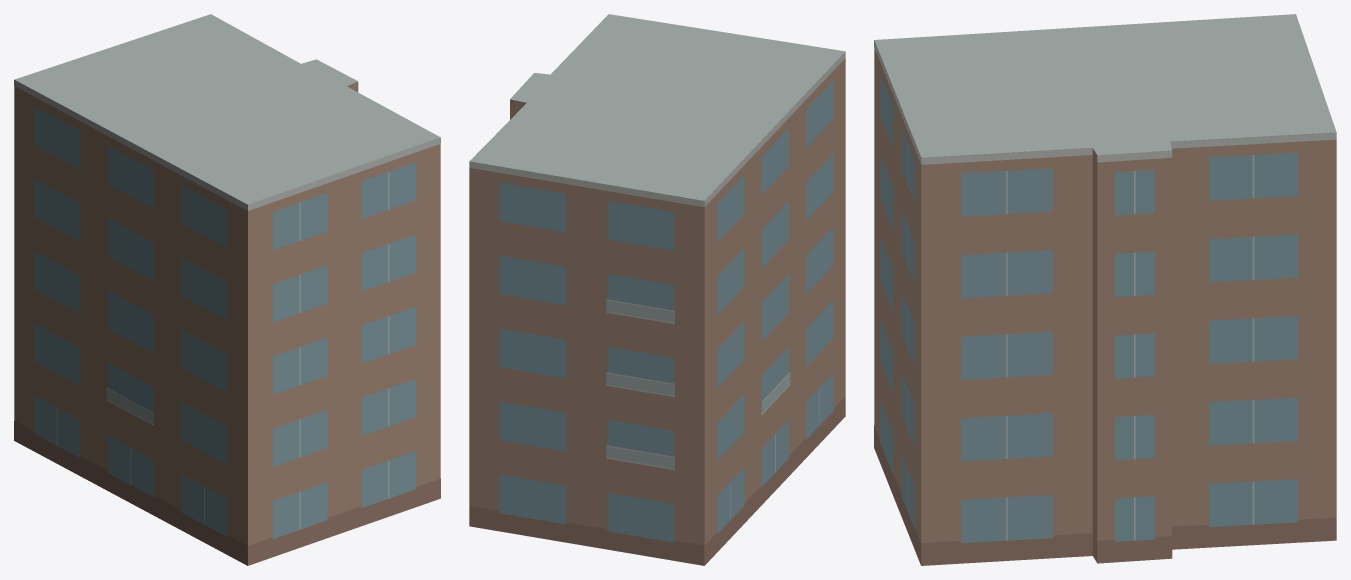
The model's file is survey-upis-32716140.glb.
3 renders of one model, left to right at view 1: azimuth 30°, elevation 25°; view 2: azimuth 150°, elevation 25°; view 3: azimuth 270°, elevation 25°, orthographic. The views are drawn at different scales.
Visible parts, largest first — view 1: survey-upis-32716140.tmp; view 2: survey-upis-32716140.tmp; view 3: survey-upis-32716140.tmp.
Part boxes in pixels (box(x1,y1,x2,y2)): survey-upis-32716140.tmp: box(14, 14, 440, 565); survey-upis-32716140.tmp: box(469, 14, 845, 565); survey-upis-32716140.tmp: box(874, 14, 1336, 565).
Bounding box in the file's own units: 10.47 × 13.85 × 14.23.
